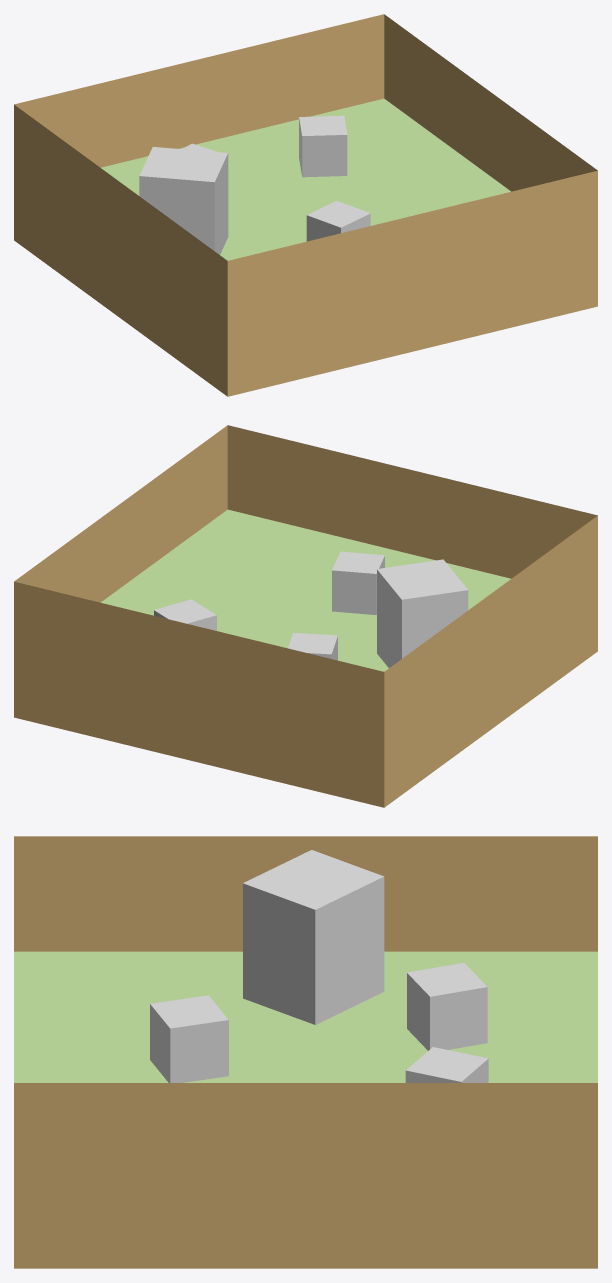
The picture shows the model from 3 angles, top to bottom: view 1: azimuth 30°, elevation 25°; view 2: azimuth 150°, elevation 25°; view 3: azimuth 270°, elevation 25°; orthographic projection. The views are drawn at different scales.
Parts seen in each view (by area): view 1: Plane.002, Plane.003, Plane.001, Plane, Plane.004, Cube, Cube.001, Cube.002; view 2: Plane.001, Plane.003, Plane.002, Plane, Plane.004, Cube, Cube.002, Cube.001, Cube.003; view 3: Plane.004, Plane.003, Plane, Cube, Cube.003, Cube.002, Cube.001.
Part boxes in pixels (box(x1,y1,x2,y2)): Plane.002: box(227, 170, 597, 396); Plane.003: box(14, 104, 227, 396); Plane.001: box(14, 14, 384, 167); Plane: box(101, 98, 510, 260); Plane.004: box(384, 14, 597, 191); Cube: box(139, 147, 228, 254); Cube.001: box(299, 115, 347, 177); Cube.002: box(306, 200, 370, 241); Plane.001: box(14, 581, 384, 807); Plane.003: box(384, 515, 597, 807); Plane.002: box(227, 425, 597, 578); Plane: box(101, 509, 510, 671); Plane.004: box(14, 425, 227, 602); Cube: box(377, 559, 468, 667); Cube.002: box(332, 551, 384, 614); Cube.001: box(154, 599, 216, 630); Cube.003: box(288, 632, 337, 660); Plane.004: box(14, 1083, 597, 1268); Plane.003: box(14, 836, 597, 951); Plane: box(14, 951, 597, 1082); Cube: box(243, 850, 384, 1024); Cube.003: box(407, 963, 487, 1050); Cube.002: box(150, 995, 228, 1082); Cube.001: box(405, 1047, 488, 1082).
Bounding box in the file's own units: 18.84 × 6.62 × 18.84.
